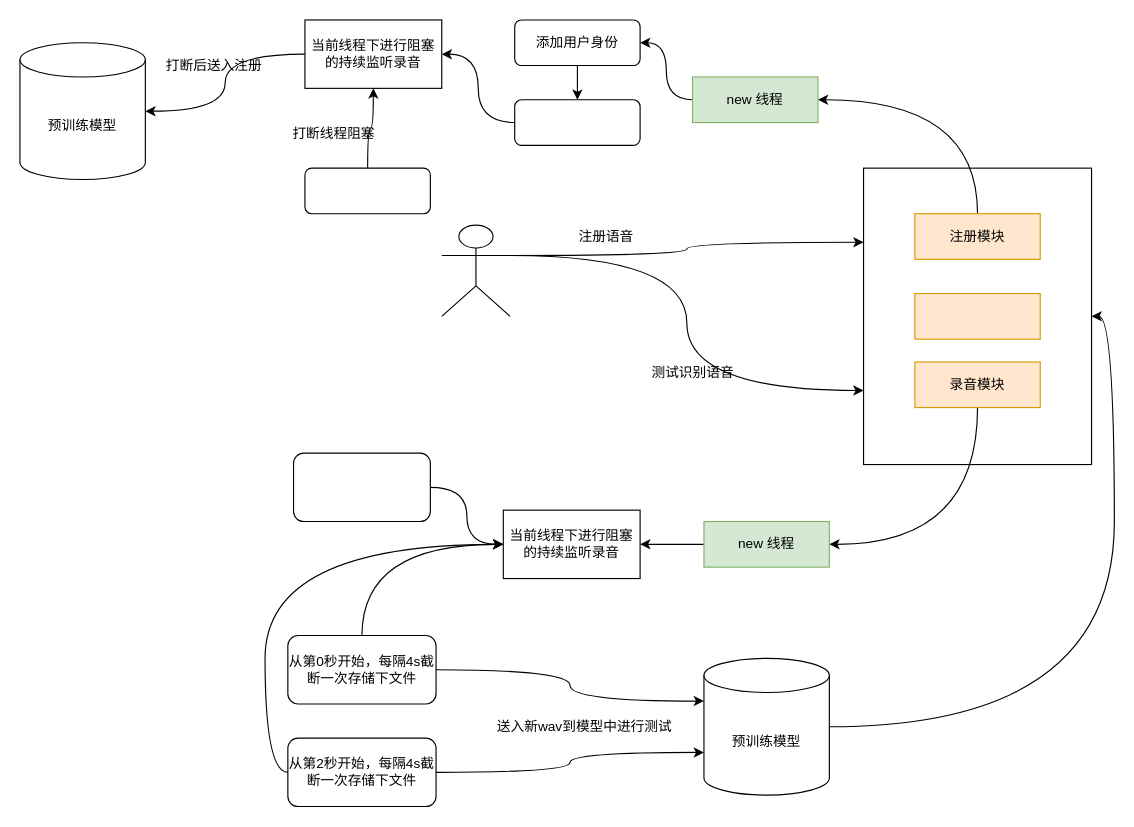
Some shapes in this 1134 by 827 pixel diagram are drawn without their labels. Here are the shapes that lost their labels. From the top down, the centre of each, then its label:
At (577,122): "点击开始录音".
At (367,190): "用户暂停录音".
At (475,270): "registrant".
At (977,315): "UI展示结果模块".
At (361,487): "进行静音检测，如果声音value低于threshold则不进行记录".
